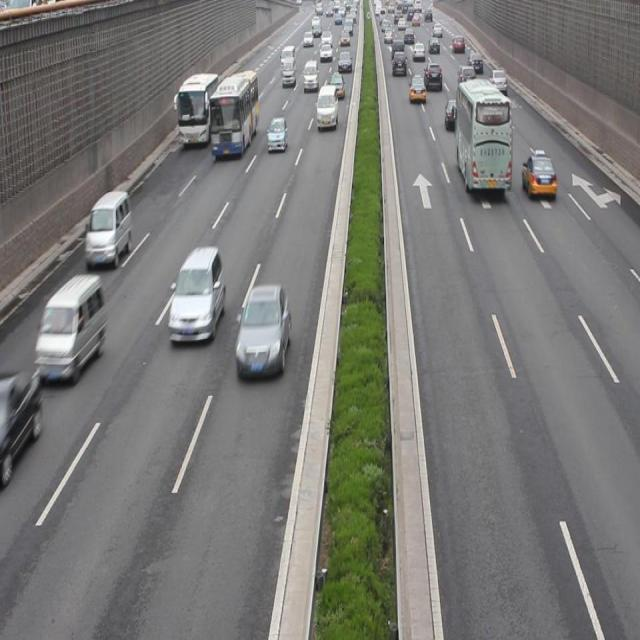car: (170, 248, 226, 347), (236, 284, 288, 377), (1, 368, 39, 464), (520, 153, 555, 200), (267, 116, 287, 151), (444, 99, 463, 127)
truck: (37, 277, 104, 382), (86, 193, 130, 266)
van: (454, 80, 510, 193), (210, 71, 259, 158), (176, 70, 216, 146)
